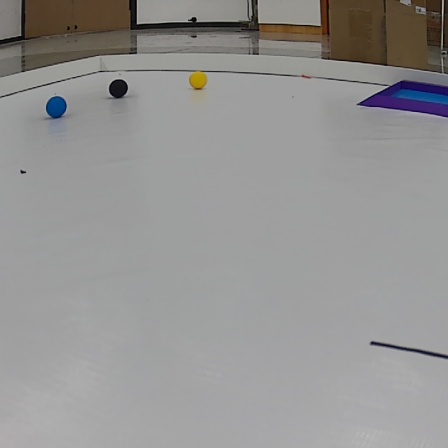black: (108, 77, 136, 106)
blue: (43, 93, 67, 119)
blue_aim: (358, 74, 446, 120)
yellow: (184, 69, 214, 92)
